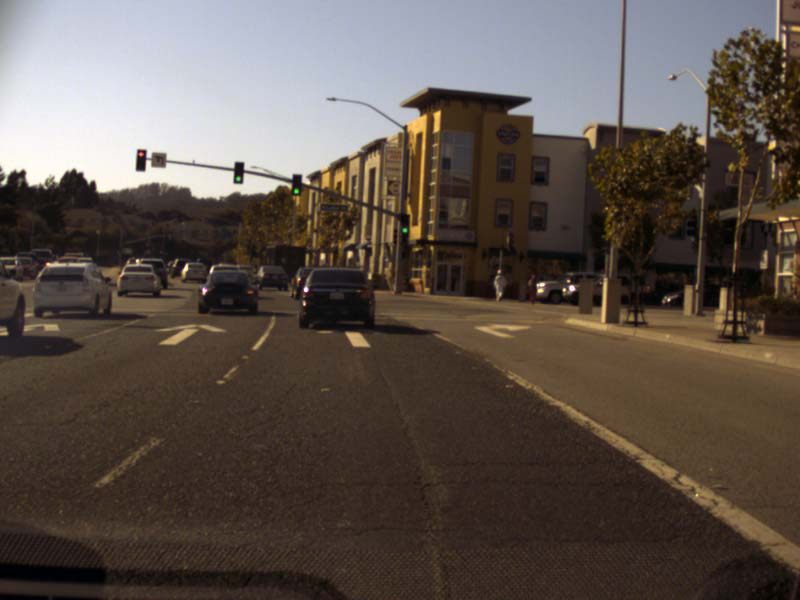Green: (233, 162, 243, 183), (399, 214, 408, 236), (292, 174, 301, 195)
Red: (136, 149, 145, 169)
